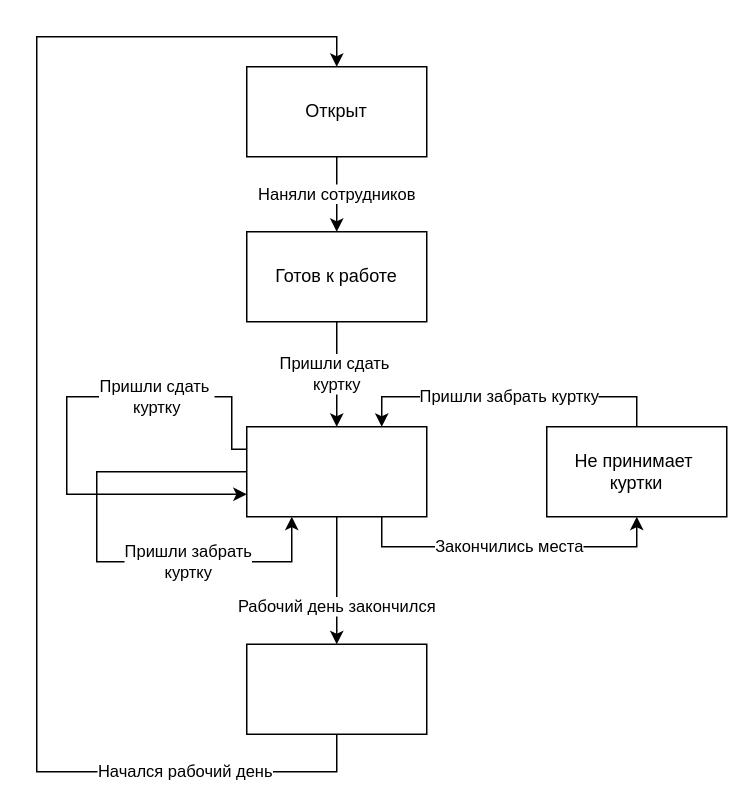
Some shapes in this 753 by 810 pixel diagram are drawn without their labels. The box of each missing label's shape, as (x1, y1, x2, y2) in pixels:
Закрыт: (245, 643, 427, 734)
Работает: (245, 425, 427, 517)
